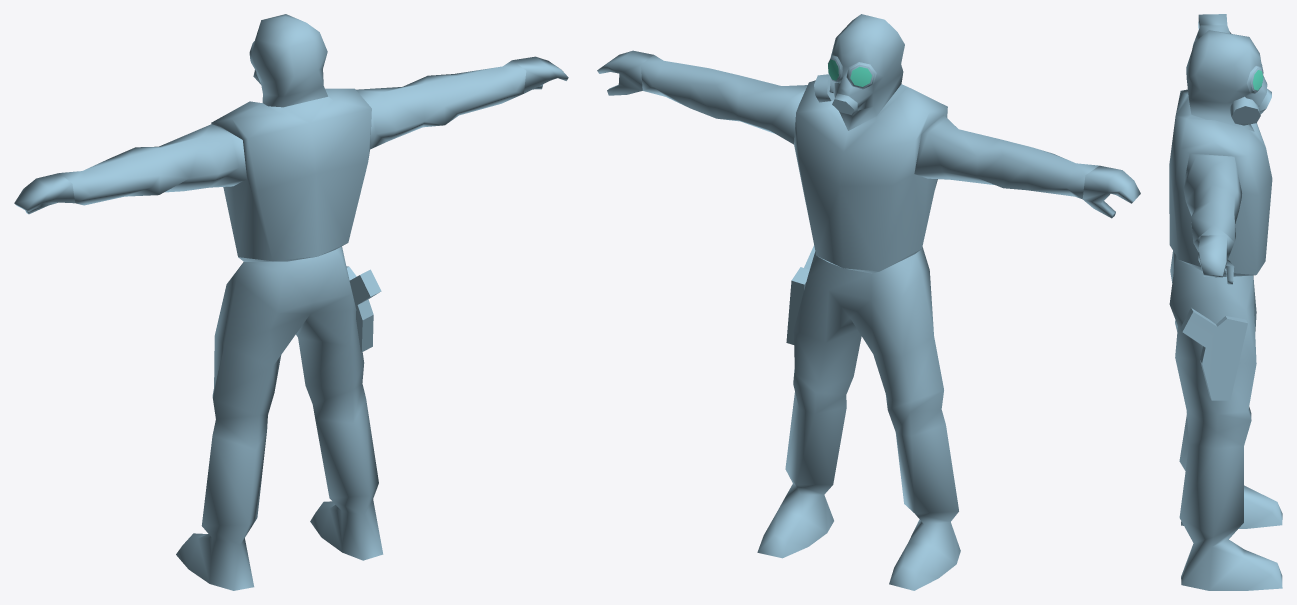
File: sas.obj
The picture shows the model from 3 angles, left to right: view 1: azimuth 30°, elevation 25°; view 2: azimuth 150°, elevation 25°; view 3: azimuth 270°, elevation 25°; orthographic projection. The views are drawn at different scales.
Parts seen in each view (by area): view 1: SAS; view 2: SAS; view 3: SAS.
Boxes of the visible parts, bbox=[...] form: SAS: bbox=[14, 14, 568, 590]; SAS: bbox=[597, 14, 1140, 590]; SAS: bbox=[1169, 14, 1282, 590].
Bounding box in the file's own units: 73.37 × 69.12 × 13.7.
